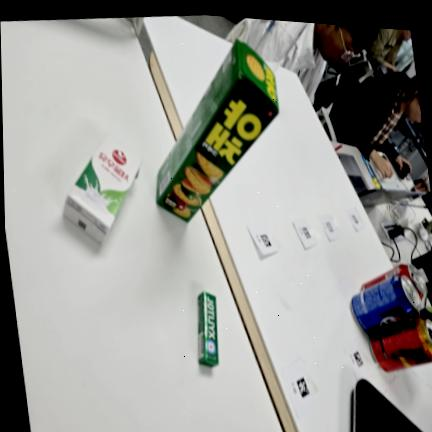cracker_vege: (156, 40, 279, 222)
gum_green: (198, 291, 219, 367)
milk_green: (63, 135, 141, 243)
